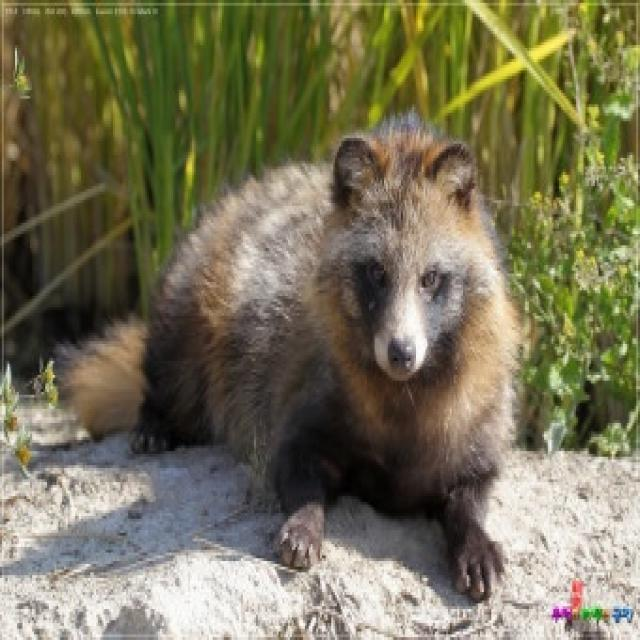racoon: (114, 121, 534, 596)
